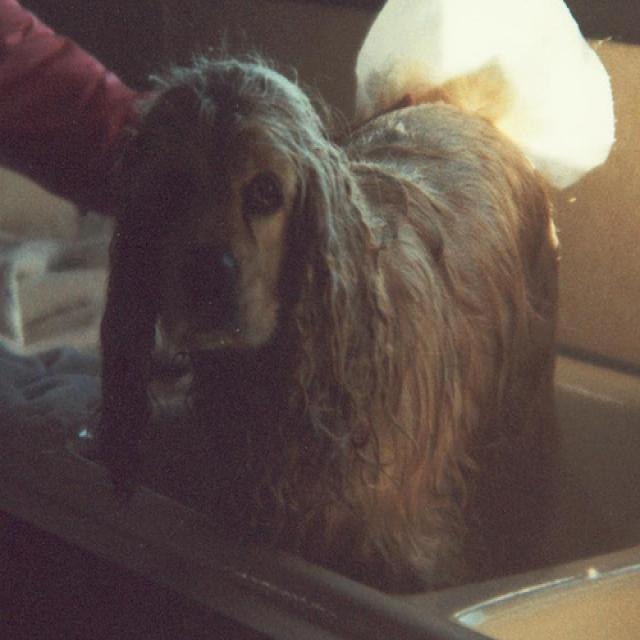Dog: (0, 75, 568, 594)
